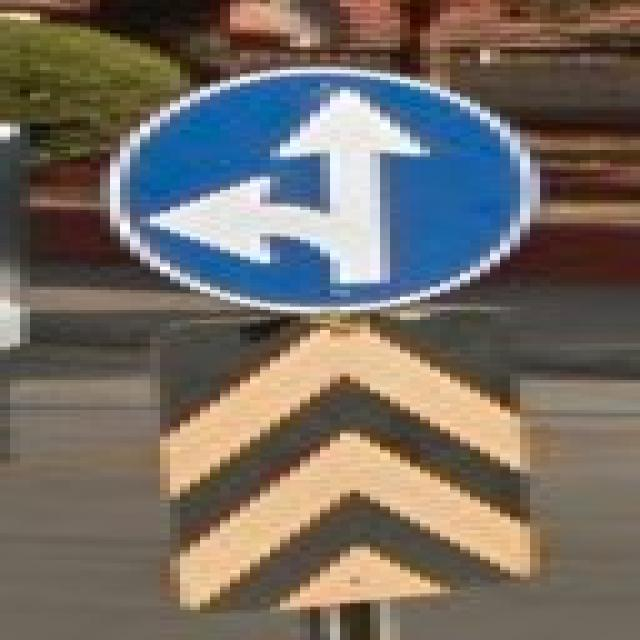Straight or Left: (106, 66, 536, 313)
